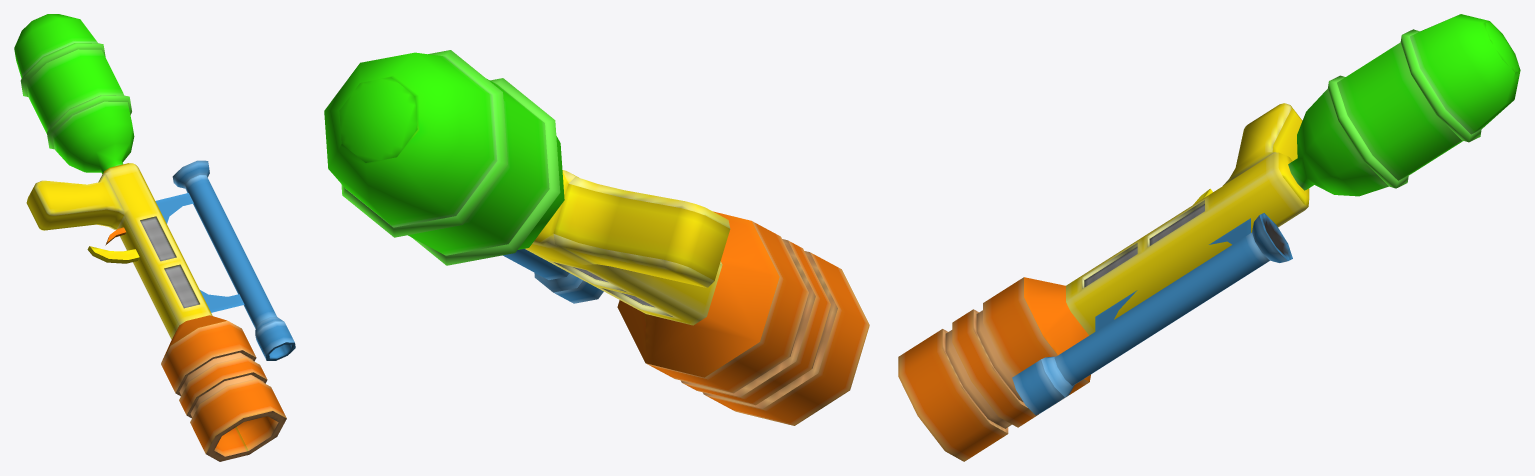
Rendered from balloon_shooter.FBX.
The picture shows the model from 3 angles, left to right: view 1: azimuth 30°, elevation 25°; view 2: azimuth 150°, elevation 25°; view 3: azimuth 270°, elevation 25°; orthographic projection. The views are drawn at different scales.
Visible parts, largest first — view 1: balloon-shooter_unwrapped; view 2: balloon-shooter_unwrapped; view 3: balloon-shooter_unwrapped.
Part boxes in pixels (bbox=[...]): balloon-shooter_unwrapped: bbox=[14, 14, 295, 461]; balloon-shooter_unwrapped: bbox=[324, 50, 869, 425]; balloon-shooter_unwrapped: bbox=[898, 14, 1520, 461].
Bounding box in the file's own units: 22.86 × 39.55 × 51.45.
